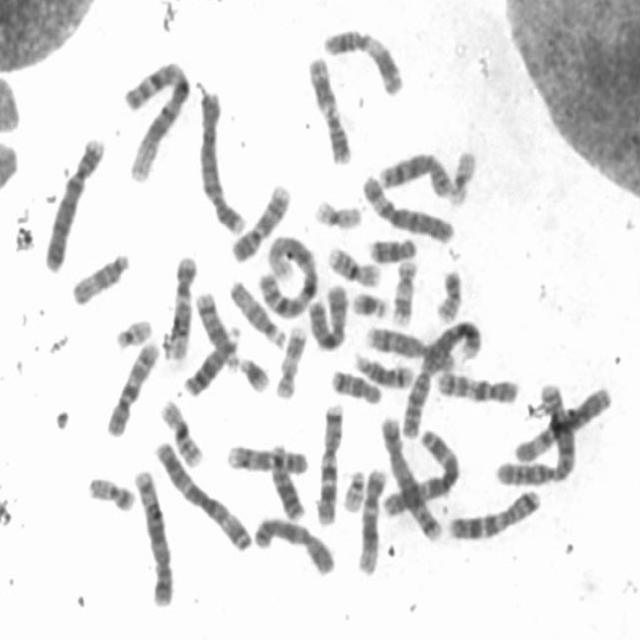A1: (119, 52, 194, 185), (257, 228, 322, 320)
A2: (398, 314, 483, 440), (491, 377, 582, 488)
A3: (150, 435, 254, 552), (379, 423, 462, 519)
B4: (39, 128, 107, 274), (194, 82, 248, 237)
B5: (375, 411, 443, 543), (128, 461, 176, 609)
C10: (101, 332, 164, 440), (431, 364, 521, 405)
C11: (319, 22, 408, 98), (303, 50, 354, 167)
C12: (159, 249, 199, 363), (354, 461, 388, 576)
C6: (508, 379, 616, 465), (356, 168, 458, 246)
C7: (442, 482, 544, 542), (312, 396, 346, 526)
C8: (362, 319, 458, 374), (375, 146, 455, 199)
C9: (225, 177, 292, 264), (223, 438, 312, 477)
D13: (179, 319, 243, 399), (267, 440, 307, 522)
D14: (190, 284, 241, 370), (349, 346, 416, 390)
D15: (224, 274, 288, 349), (66, 245, 133, 307)
E16: (155, 392, 205, 468), (323, 238, 383, 288)
E17: (271, 320, 308, 401), (387, 254, 420, 328)
E18: (327, 363, 384, 405), (364, 230, 419, 264)
F19: (445, 144, 479, 208), (309, 193, 365, 231)
F20: (82, 468, 138, 513), (431, 262, 465, 323)
G21: (234, 350, 272, 394), (348, 284, 390, 320)
G22: (110, 312, 156, 349), (338, 462, 367, 513)
X: (250, 510, 338, 577), (305, 277, 351, 352)
